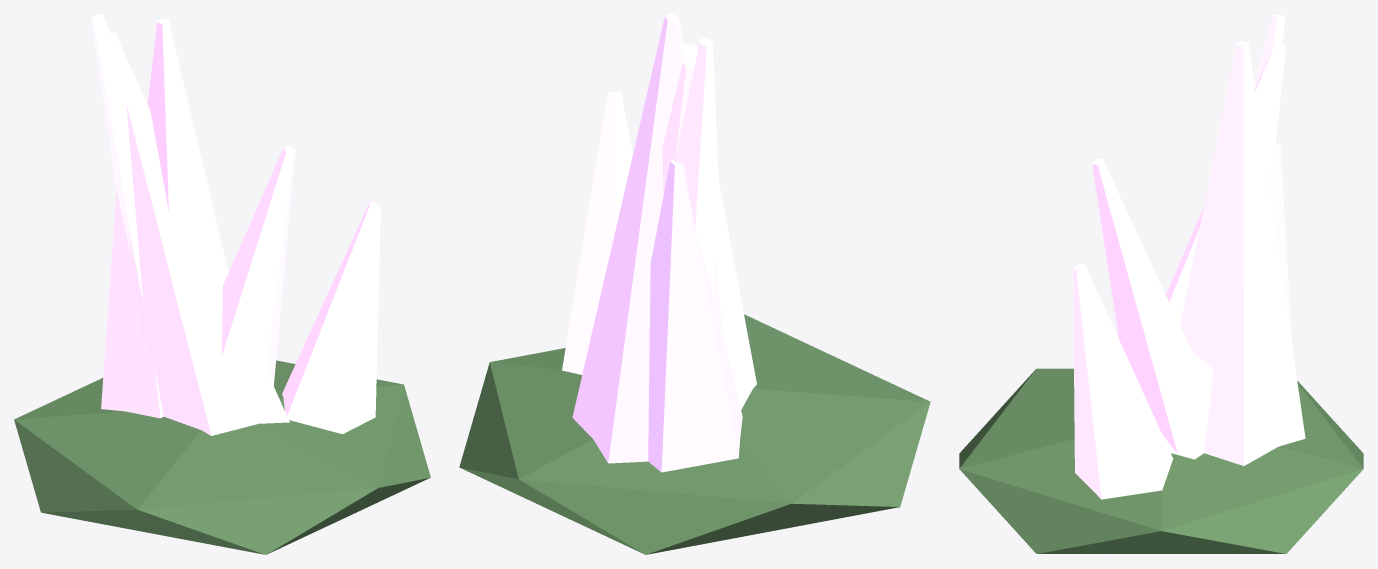
The model's file is Deco_CrystalCluster.fbx.
3 renders of one model, left to right at view 1: azimuth 30°, elevation 25°; view 2: azimuth 150°, elevation 25°; view 3: azimuth 270°, elevation 25°, orthographic. The views are drawn at different scales.
Parts seen in each view (by area): view 1: Deco_CrystalCluster, Deco_CrystalCluster_GrassBase; view 2: Deco_CrystalCluster, Deco_CrystalCluster_GrassBase; view 3: Deco_CrystalCluster, Deco_CrystalCluster_GrassBase.
Boxes of the visible parts, x1=… form: Deco_CrystalCluster: x1=91, y1=14, x2=380, y2=435; Deco_CrystalCluster_GrassBase: x1=14, y1=360, x2=430, y2=554; Deco_CrystalCluster: x1=562, y1=14, x2=756, y2=472; Deco_CrystalCluster_GrassBase: x1=459, y1=314, x2=930, y2=554; Deco_CrystalCluster: x1=1073, y1=14, x2=1305, y2=554; Deco_CrystalCluster_GrassBase: x1=959, y1=368, x2=1363, y2=553.
Bounding box in the file's own units: 0.322 × 0.3827 × 0.3062.
